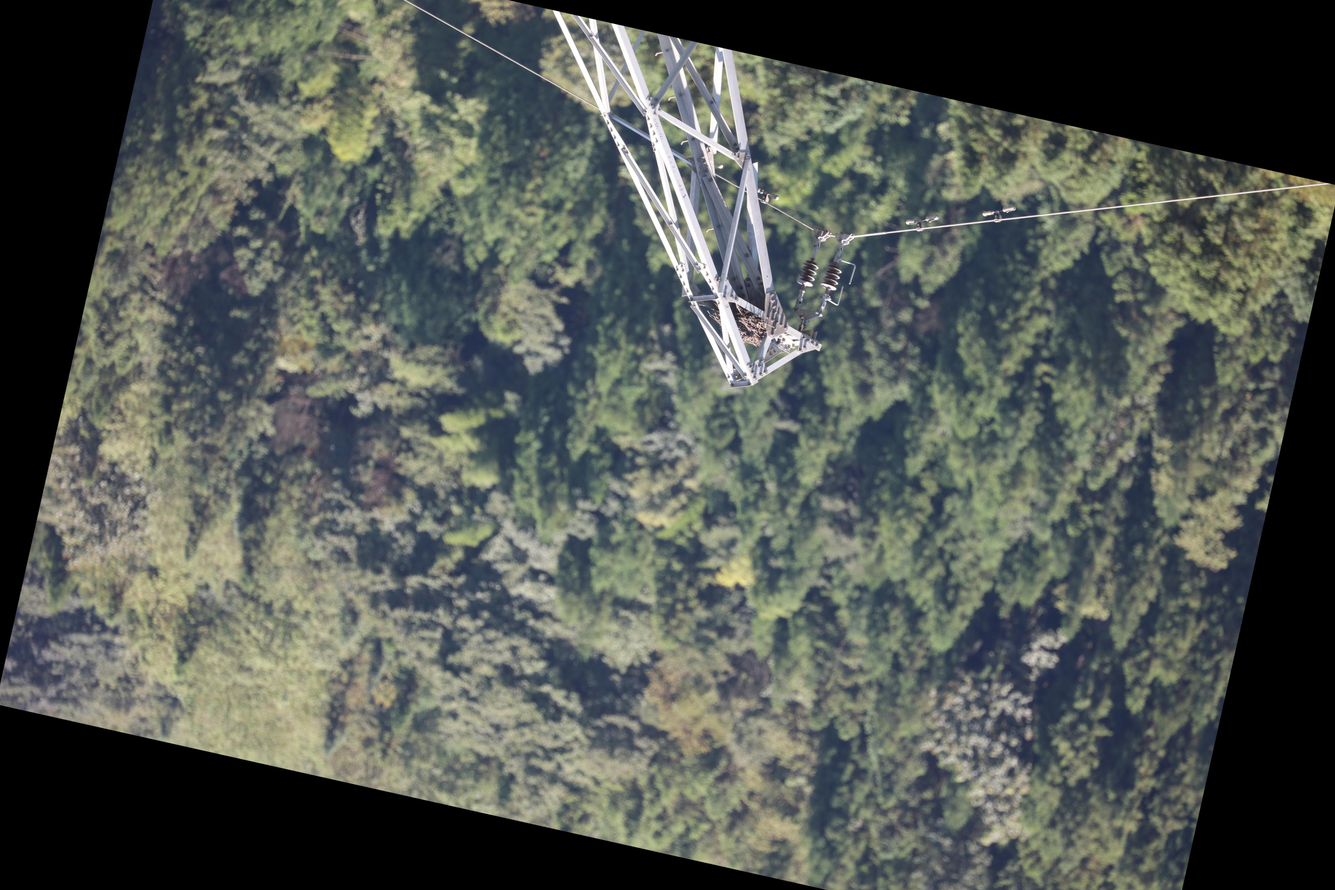damper: (978, 194, 1020, 229), (901, 205, 942, 238), (752, 184, 783, 209)
